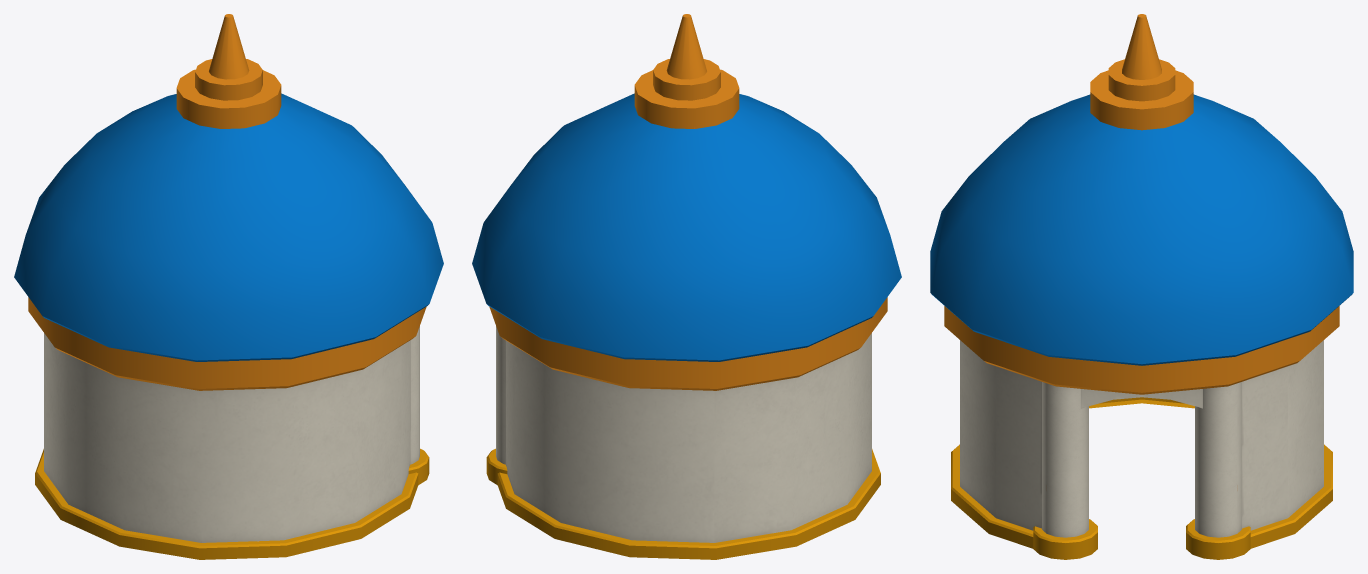
File: Barrack Age 4.fbx
The picture shows the model from 3 angles, left to right: view 1: azimuth 30°, elevation 25°; view 2: azimuth 150°, elevation 25°; view 3: azimuth 270°, elevation 25°; orthographic projection.
Parts seen in each view (by area): view 1: Barrack_Age_4; view 2: Barrack_Age_4; view 3: Barrack_Age_4.
Part boxes in pixels (bbox=[...]): Barrack_Age_4: bbox=[14, 14, 443, 559]; Barrack_Age_4: bbox=[472, 14, 901, 559]; Barrack_Age_4: bbox=[930, 14, 1353, 559].
Bounding box in the file's own units: 390 × 462 × 380.
Materials: 1 (1 with a texture image).
